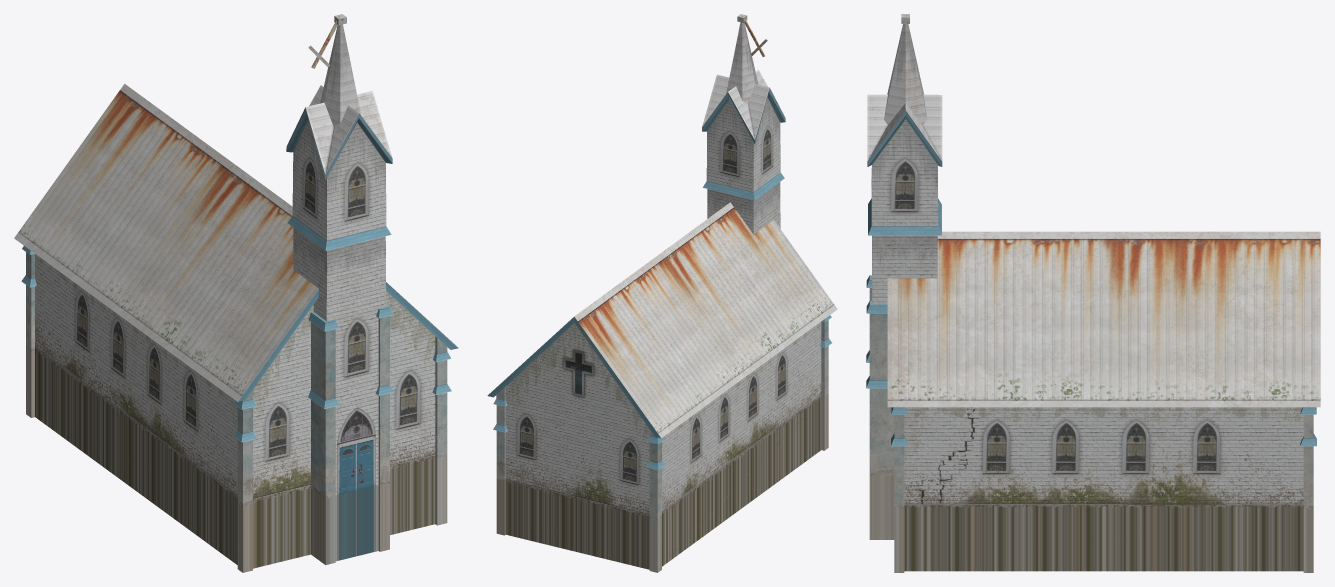
Rendered from Church.fbx.
The picture shows the model from 3 angles, left to right: view 1: azimuth 30°, elevation 25°; view 2: azimuth 150°, elevation 25°; view 3: azimuth 270°, elevation 25°; orthographic projection. The views are drawn at different scales.
Visible parts, largest first — view 1: Church; view 2: Church; view 3: Church.
Boxes of the visible parts, <box> form: Church: <box>14,14,458,572</box>; Church: <box>487,14,837,572</box>; Church: <box>866,14,1320,572</box>.
Size of the model in its own units: 4.76 by 10.84 by 8.77.
